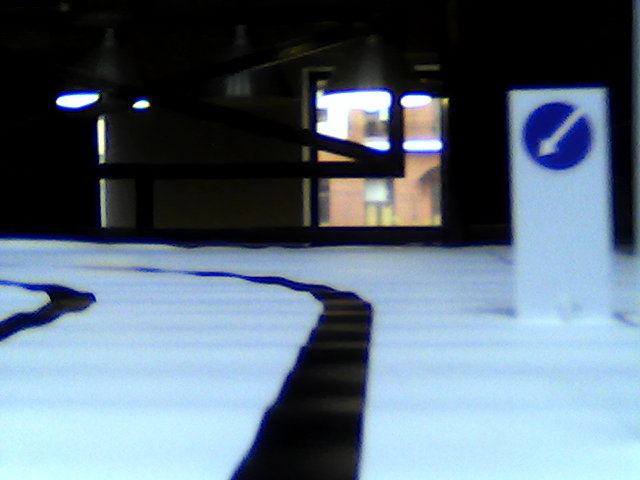prep: (520, 104, 592, 169)
